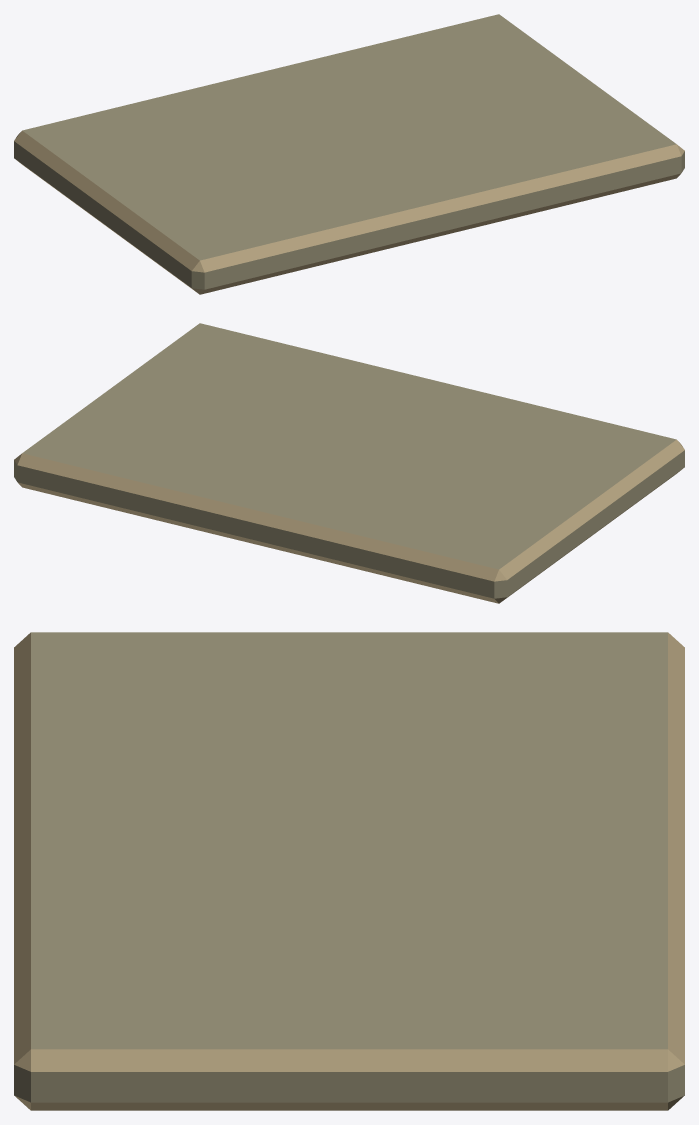
Rendered from cutting_board.fbx.
3 views of the same model, one above another, from view 1: azimuth 30°, elevation 25°; view 2: azimuth 150°, elevation 25°; view 3: azimuth 270°, elevation 25° (orthographic). The views are drawn at different scales.
Visible parts, largest first — view 1: pCube11; view 2: pCube11; view 3: pCube11.
Part boxes in pixels (x1,y1,x2,y2): pCube11: (14, 14, 684, 294); pCube11: (14, 323, 684, 603); pCube11: (14, 632, 684, 1110).
Bounding box in the file's own units: 2.28 × 0.1512 × 1.5.
